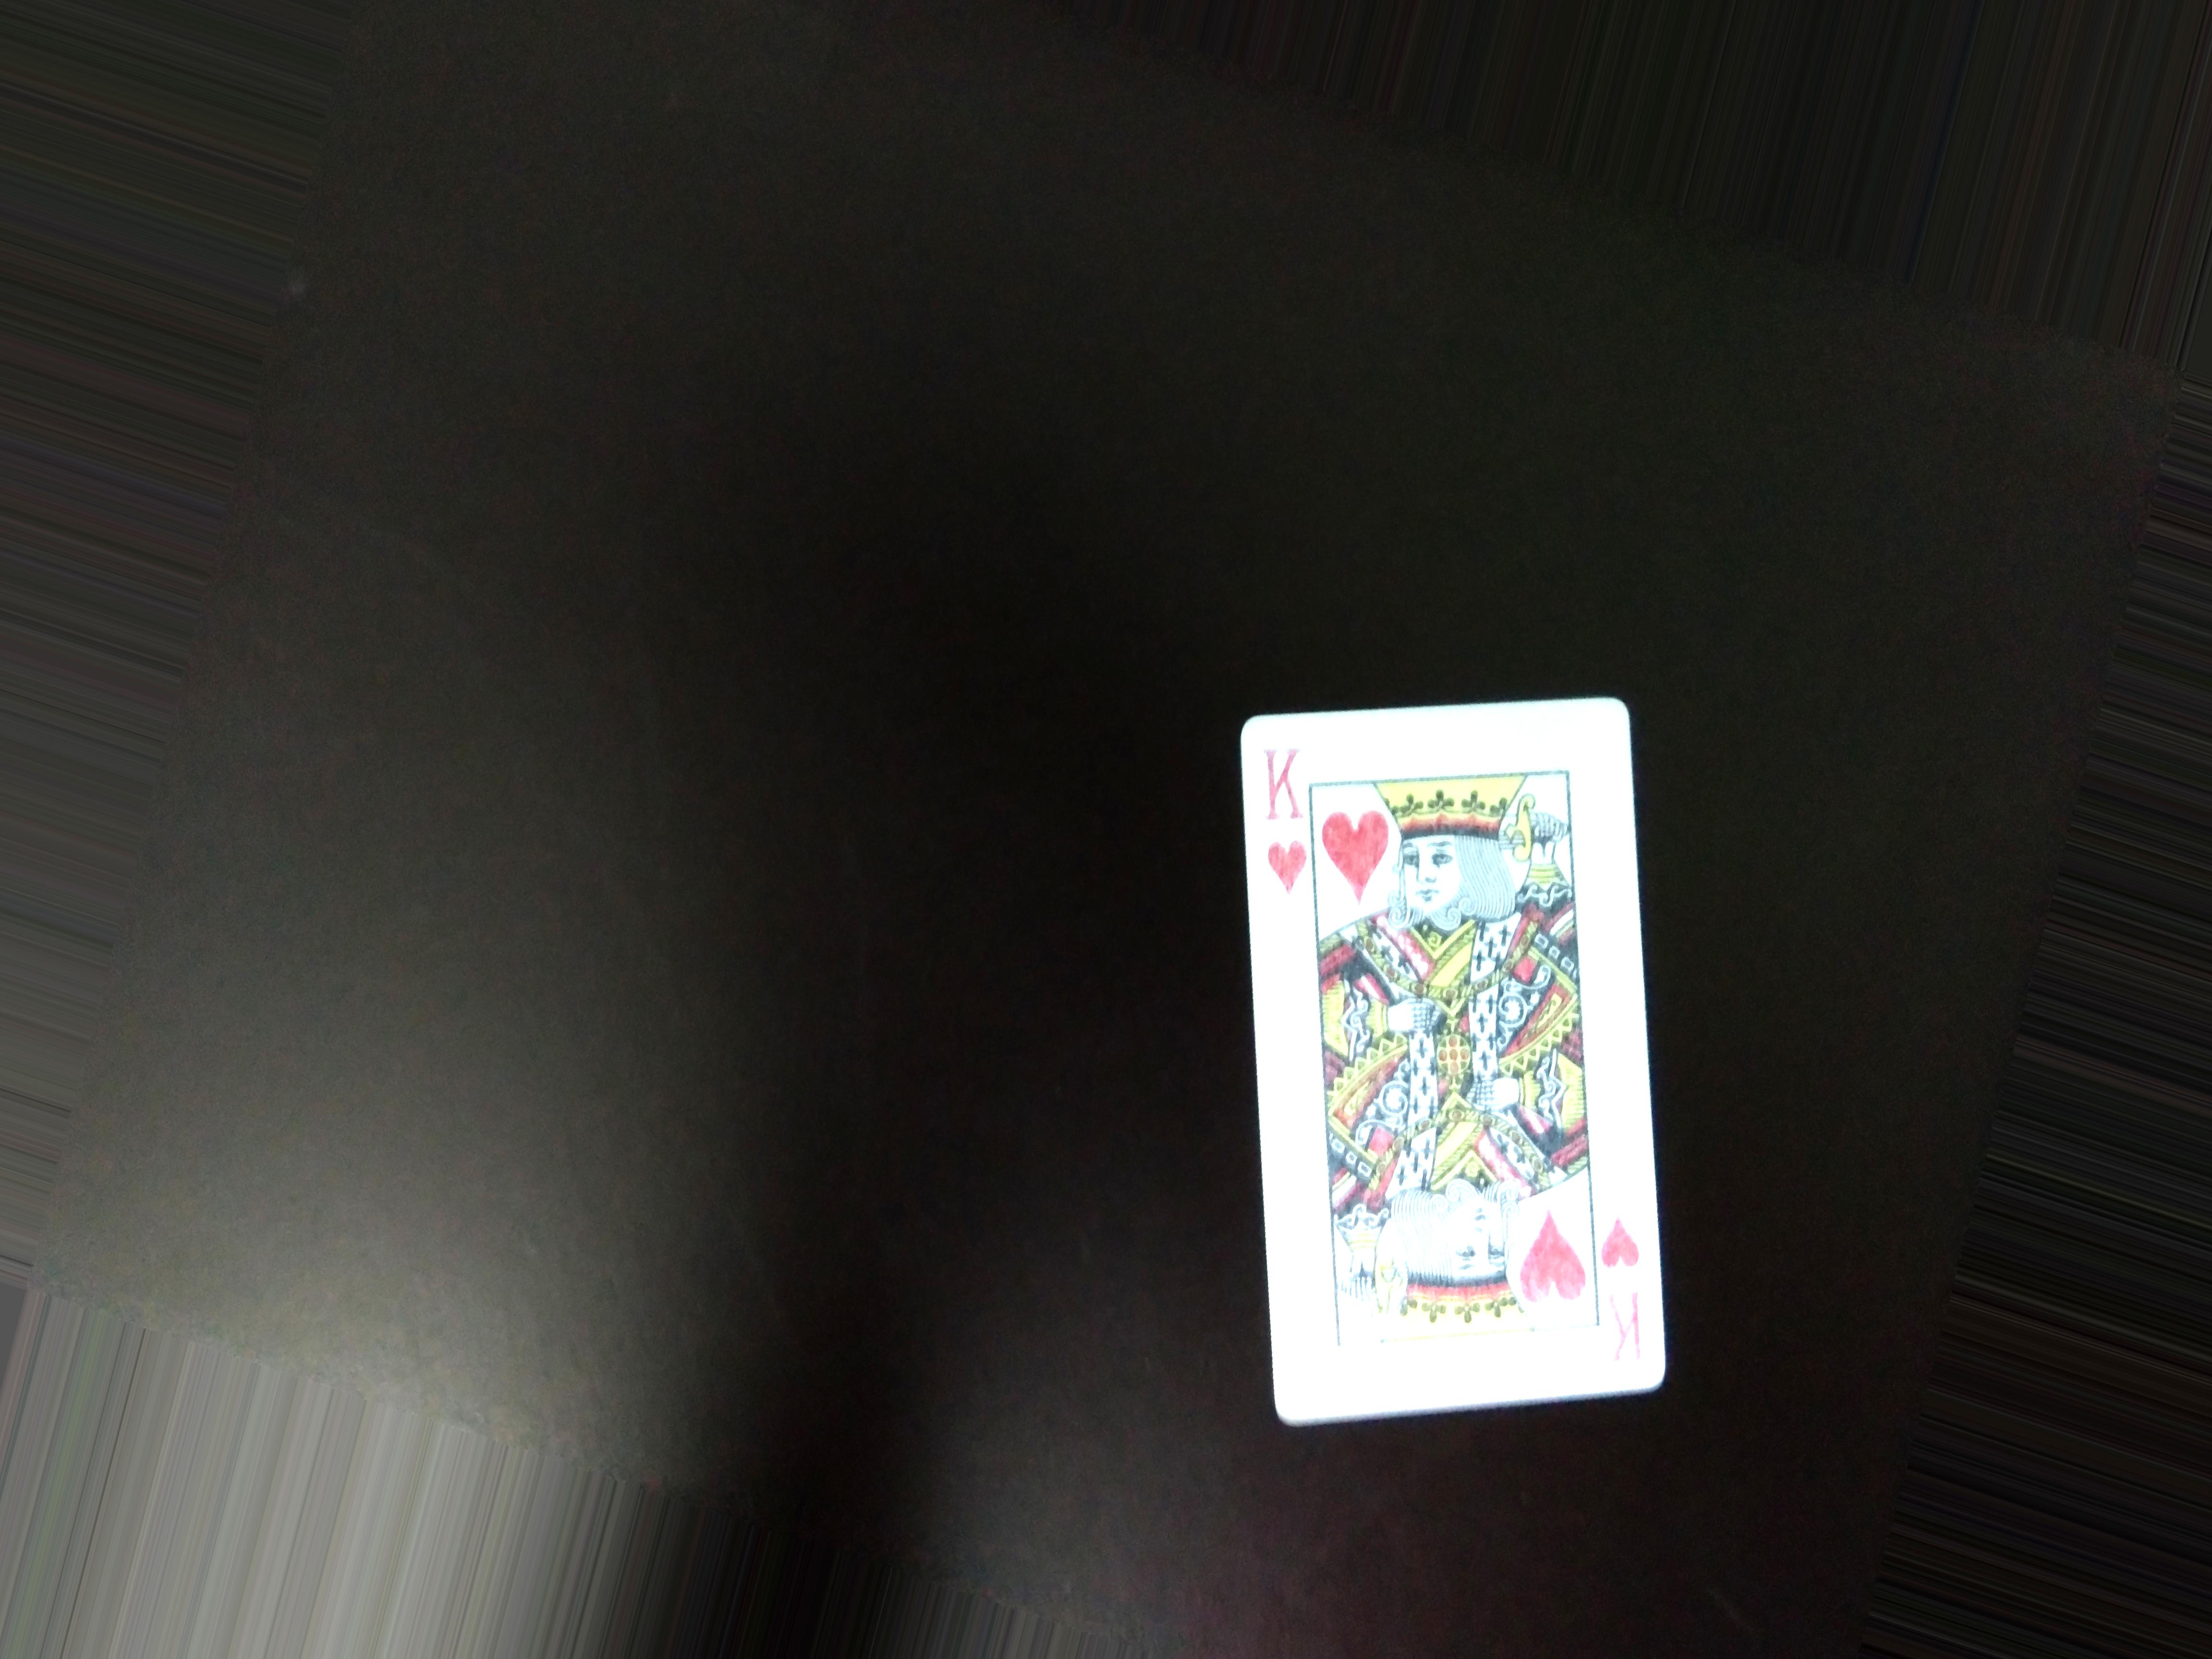KH: (1242, 720, 1308, 904)
